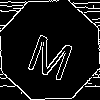M: (25, 25, 79, 82)
